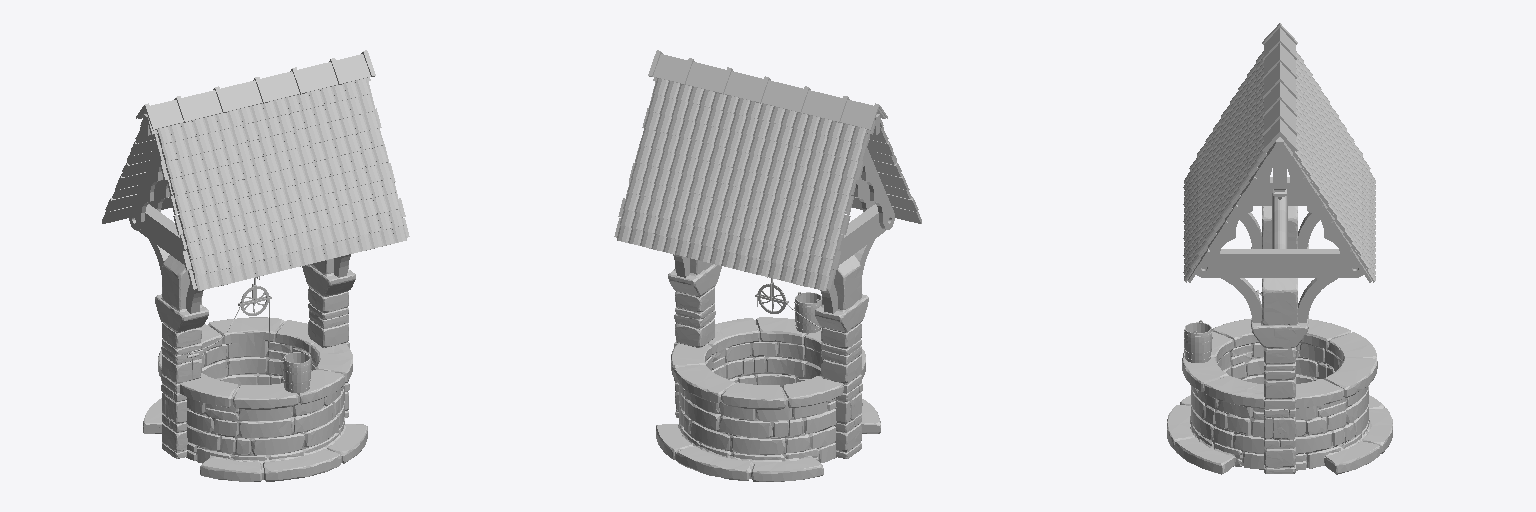
Rendered from Well.obj.
3 views of the same model, side by side, from view 1: azimuth 30°, elevation 25°; view 2: azimuth 150°, elevation 25°; view 3: azimuth 270°, elevation 25° (orthographic).
Visible parts, largest first — view 1: Well; view 2: Well; view 3: Well.
Boxes of the visible parts, x1,y1,x2,y2 form: Well: [102, 50, 409, 481]; Well: [614, 50, 921, 481]; Well: [1167, 23, 1392, 474].
Bounding box in the file's own units: 8.63 × 13.26 × 7.62.